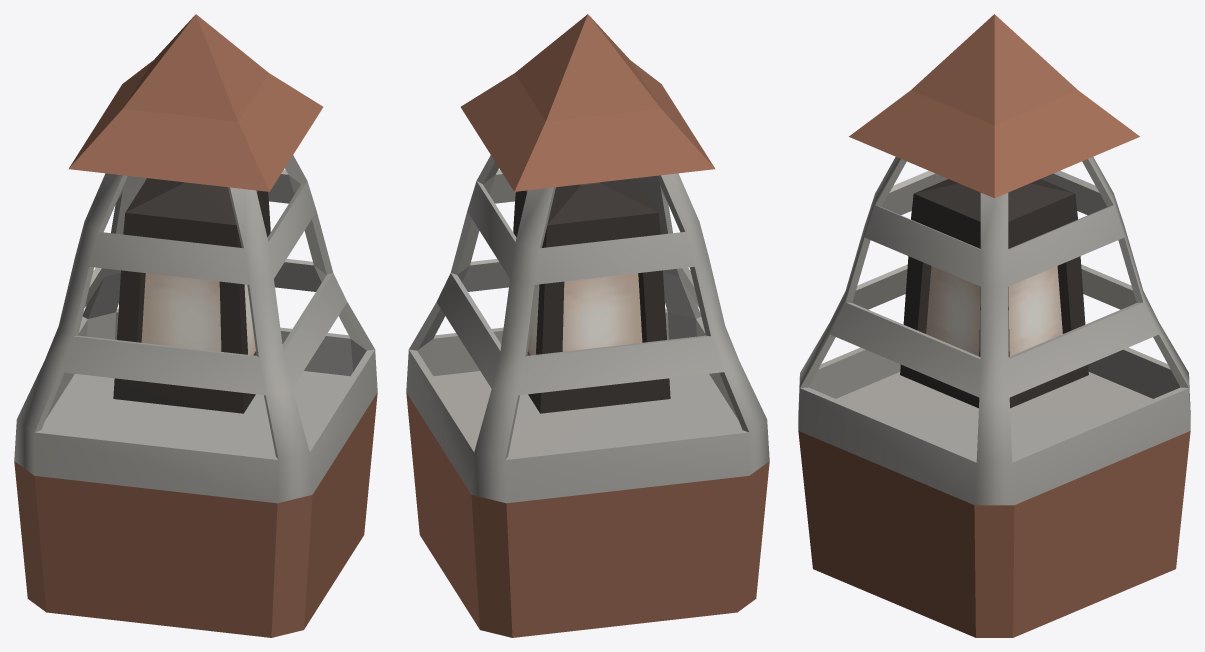
The model's file is seaLantern.fbx.
3 renders of one model, left to right at view 1: azimuth 30°, elevation 25°; view 2: azimuth 150°, elevation 25°; view 3: azimuth 270°, elevation 25°, orthographic.
Visible parts, largest first — view 1: seaLantern; view 2: seaLantern; view 3: seaLantern.
Boxes of the visible parts, x1,y1,x2,y2 form: seaLantern: (14, 14, 377, 637); seaLantern: (406, 14, 769, 637); seaLantern: (798, 14, 1190, 637).
Size of the model in its own units: 1.55 by 2.48 by 1.55.
1 material, 1 textured.
